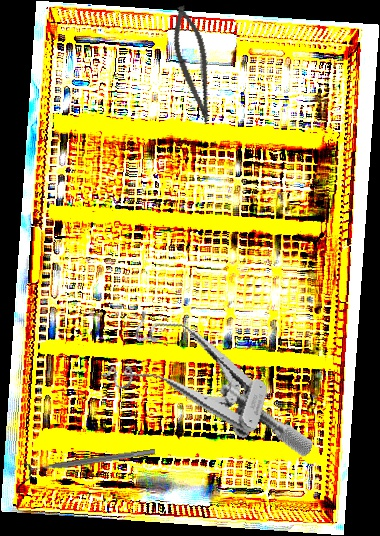Fixation Ring: (23, 441, 157, 483)
Micro Scissor: (163, 2, 226, 128)
Speculum: (95, 304, 336, 459)
